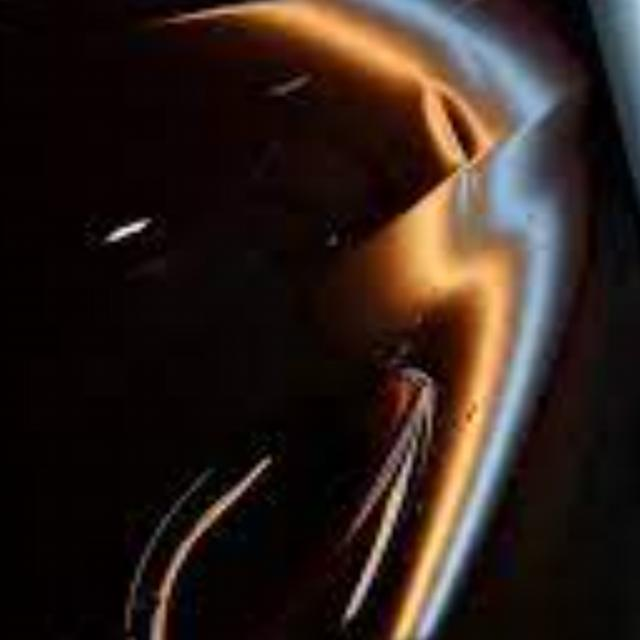dents: (411, 78, 549, 175)
